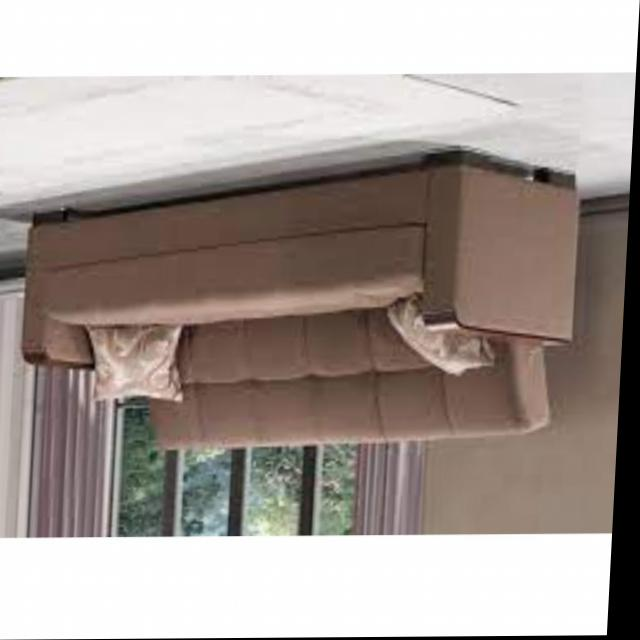Sofa: (18, 153, 588, 454)
